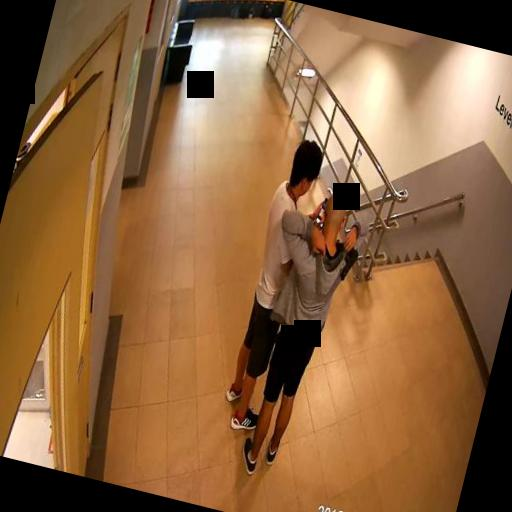Handgun: (336, 239, 360, 280)
